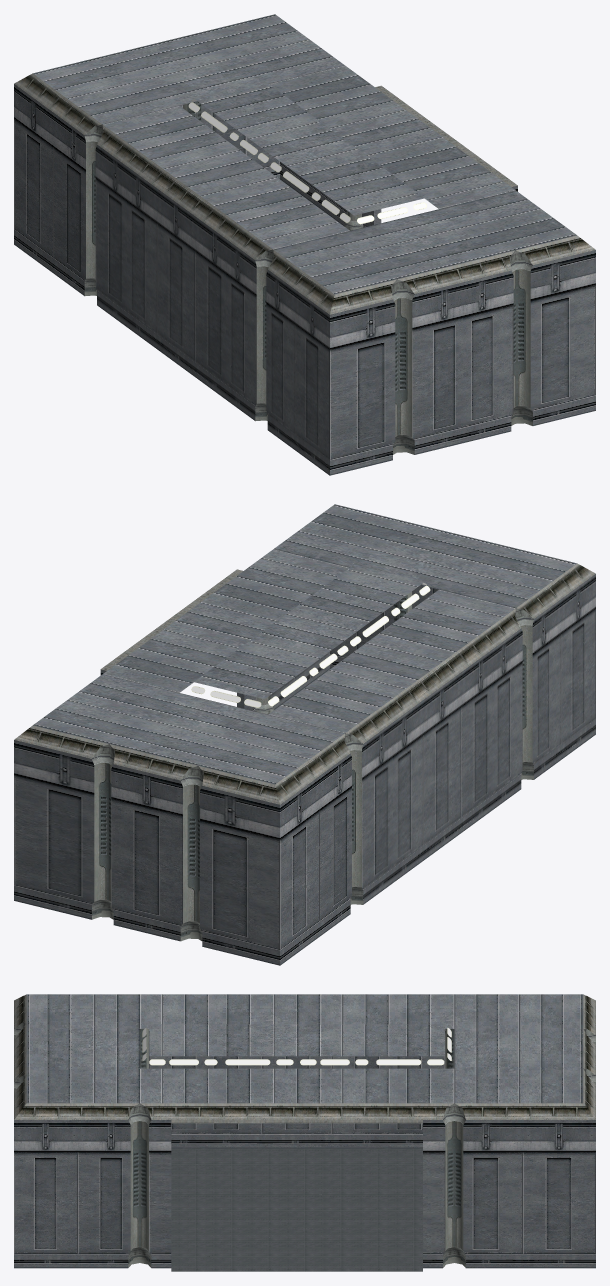
The model's file is thm_nboo_thed_emp_retreat_r24_crafting1_mesh_r24.fbx.
The picture shows the model from 3 angles, top to bottom: view 1: azimuth 30°, elevation 25°; view 2: azimuth 150°, elevation 25°; view 3: azimuth 270°, elevation 25°; orthographic projection. The views are drawn at different scales.
Visible parts, largest first — view 1: mesh_node; view 2: mesh_node; view 3: mesh_node.
Part boxes in pixels (bbox=[...]): mesh_node: bbox=[14, 14, 595, 475]; mesh_node: bbox=[14, 504, 595, 965]; mesh_node: bbox=[14, 994, 595, 1271].
Bounding box in the file's own units: 9.25 × 5.9 × 18.5.
